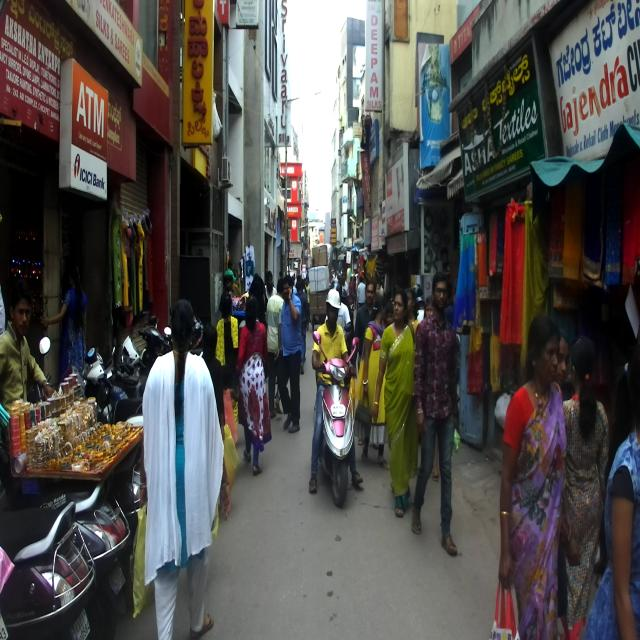motorcycle ahead at: (6, 482, 89, 640), (312, 346, 357, 499)
